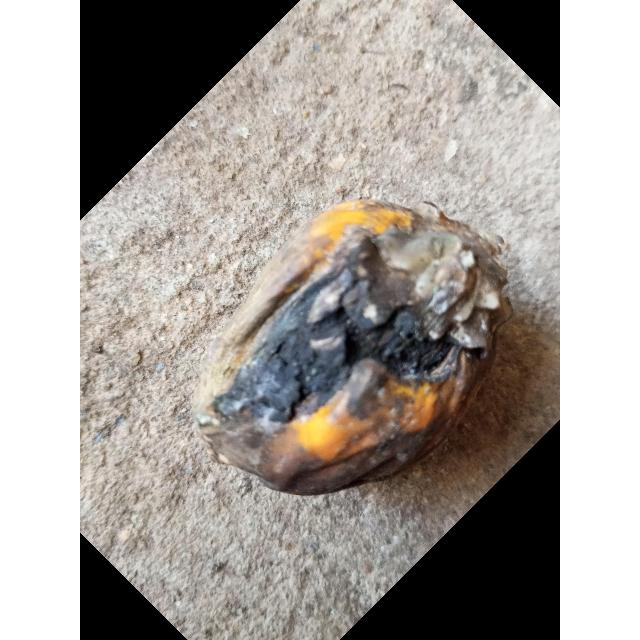damaged: (193, 199, 512, 495)
